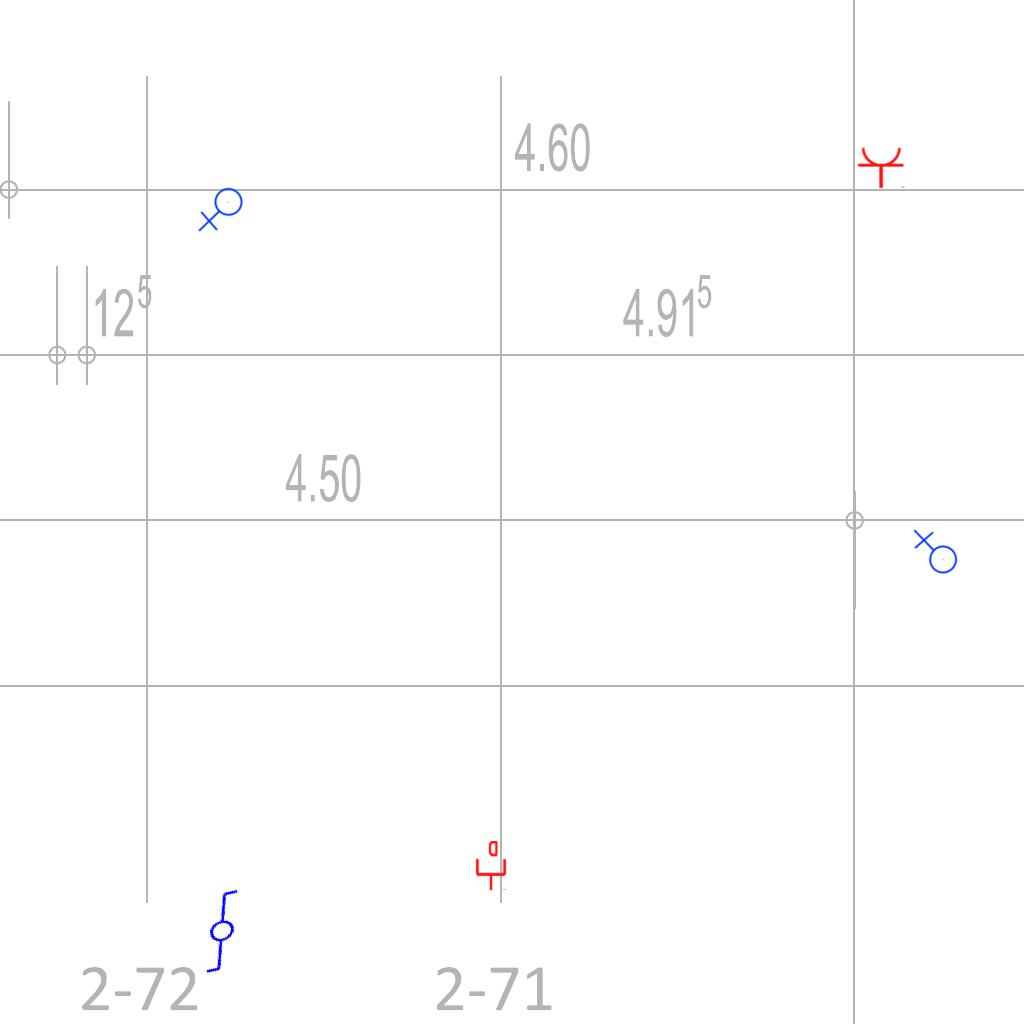Datenanschluss_einfach: (474, 841, 508, 891)
Elektroanschluss_allgemein_230V_Geraeteanschlussdose_230V: (911, 529, 958, 578), (198, 187, 247, 234)
Schukosteckdose_einfach: (857, 146, 907, 189)
Wechselschalter: (174, 879, 278, 981)
